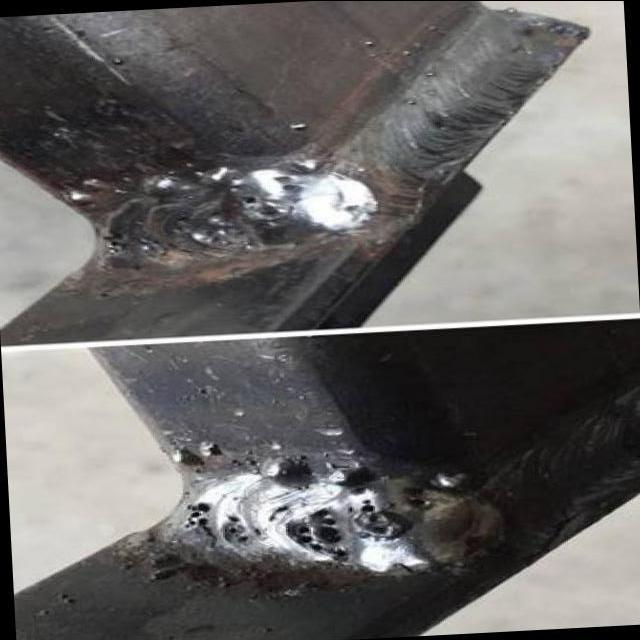defect: (277, 506, 358, 563), (180, 497, 255, 546), (345, 496, 410, 542), (235, 193, 294, 224), (267, 173, 307, 194)
